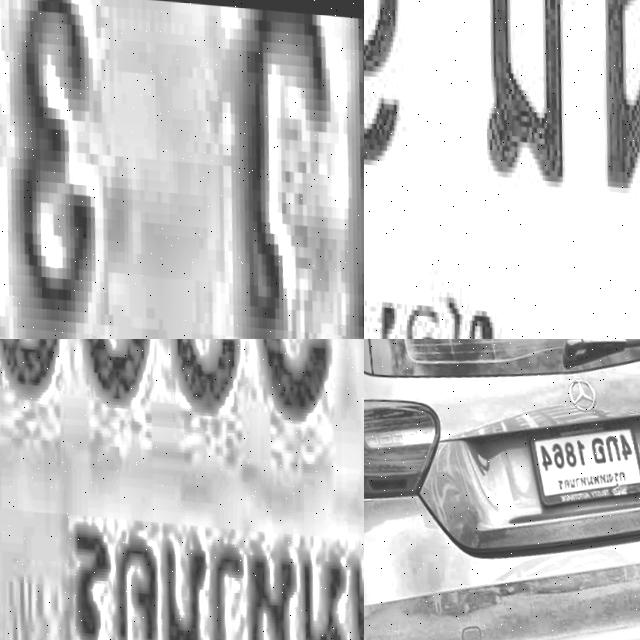license-plate: (0, 0, 364, 339), (0, 339, 364, 640), (364, 0, 640, 339), (513, 405, 640, 517)
